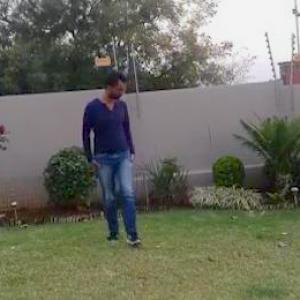follow: (84, 65, 142, 247)
